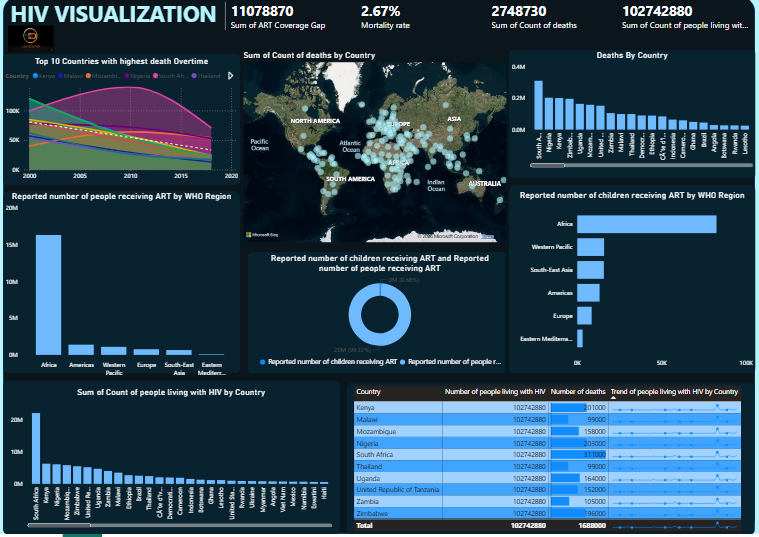

What the dashboard file says about the page in this screenshot:
{"tool":"powerbi","page":{"name":"Page 1","canvas":[1519,1058],"ordinal":0},"visuals":[{"type":"shape","box":[20,0,1479.2,1058],"z":0},{"type":"map","fields":{"Category":["d_no_of_people_living_with_hiv_by_country_clean.Country"],"Size":["Sum(d_no_of_deaths_by_country.Count of deaths)"]},"box":[487.1,105.8,527,383.3],"z":1000},{"type":"shape","box":[1014.1,371.3,485.1,371.3],"z":2000},{"type":"shape","box":[696.7,760.6,802.5,297.4],"z":3000},{"type":"shape","box":[501.1,503,507,239.5],"z":4000},{"type":"shape","box":[1014.1,105.8,485.1,251.5],"z":5000},{"type":"columnChart","title":"Deaths By Country","fields":{"Category":["d_no_of_deaths_by_country.Country"],"Y":["Sum(d_no_of_deaths_by_country.Count of deaths)"]},"box":[1014.1,105.8,485.1,235.6],"z":6000},{"type":"barChart","title":"Reported number of children receiving ART by WHO Region","fields":{"Category":["d_art_pediatric_coverage_by_country.WHO Region"],"Y":["Sum(d_art_pediatric_coverage_by_country.Reported number of children receiving ART)"]},"box":[1014.1,381.3,485.1,357.3],"z":7000},{"type":"donutChart","fields":{"Y":["Sum(d_art_pediatric_coverage_by_country.Reported number of children receiving ART)","Sum(d_art_coverage_by_country.Reported number of people receiving ART)"]},"box":[513,505,495.1,233.6],"z":8000},{"type":"tableEx","fields":{"Values":["d_no_of_deaths_by_country.Country","Sum(d_no_of_people_living_with_hiv_by_country_clean.Count of people living with HIV)","Sum(d_no_of_deaths_by_country.Count of deaths)","SparklineData(Sum(d_no_of_people_living_with_hiv_by_country_clean.Count of people living with HIV)_[d_no_of_people_livin"]},"box":[704.7,760.6,794.5,297.4],"z":9000},{"type":"shape","box":[20,113.8,467.1,257.5],"z":10000},{"type":"shape","box":[20,383.3,467.1,359.3],"z":11000},{"type":"shape","box":[20,756.6,662.7,301.4],"z":12000},{"type":"lineChart","title":"Top 10 Countries with highest death Overtime","fields":{"Category":["d_no_of_deaths_by_country.Year"],"Y":["Sum(d_no_of_deaths_by_country.Count of deaths)"],"Series":["d_no_of_deaths_by_country.Country"]},"box":[20,117.8,467.1,253.5],"z":13000},{"type":"columnChart","title":"Reported number of people receiving ART by WHO Region","fields":{"Category":["d_art_coverage_by_country.WHO Region"],"Y":["Sum(d_art_coverage_by_country.Reported number of people receiving ART)"]},"box":[20,383.3,467.1,373.3],"z":14000},{"type":"columnChart","fields":{"Category":["d_no_of_people_living_with_hiv_by_country_clean.Country"],"Y":["Sum(d_no_of_people_living_with_hiv_by_country_clean.Count of people living with HIV)"]},"box":[29.9,768.5,642.8,281.5],"z":15000},{"type":"multiRowCard","fields":{"Values":["Sum(d_art_coverage_by_country.ART Coverage Gap)","d_art_coverage_by_country.Mortality rate","Sum(d_no_of_deaths_by_country.Count of deaths)","Sum(d_no_of_people_living_with_hiv_by_country_clean.Count of people living with HIV)"]},"box":[451.1,6,1048,85.8],"z":16000},{"type":"textbox","box":[29.9,0,457.1,113.8],"z":16001},{"type":"image","box":[29.9,49.9,89.8,69.9],"z":16002}]}

Visuals, with their boxes in screenshot pixels (x1, y1, x2, y2), scaled from the page's 1519x1058 canvas onto the 759x537 screenshot:
shape: x1=10, y1=0, x2=749, y2=536
map - d_no_of_people_living_with_hiv_by_country_clean.Country x Sum(d_no_of_deaths_by_country.Count of deaths): x1=243, y1=54, x2=507, y2=248
shape: x1=507, y1=188, x2=749, y2=377
shape: x1=348, y1=386, x2=749, y2=536
shape: x1=250, y1=255, x2=504, y2=377
shape: x1=507, y1=54, x2=749, y2=181
"Deaths By Country" columnChart: x1=507, y1=54, x2=749, y2=173
"Reported number of children receiving ART by WHO Region" barChart: x1=507, y1=194, x2=749, y2=375
donutChart - Sum(d_art_pediatric_coverage_by_country.Reported number of children receiving ART) x Sum(d_art_coverage_by_country.Reported number of people receiving ART): x1=256, y1=256, x2=504, y2=375
tableEx - d_no_of_deaths_by_country.Country x Sum(d_no_of_people_living_with_hiv_by_country_clean.Count of people living with HIV): x1=352, y1=386, x2=749, y2=536
shape: x1=10, y1=58, x2=243, y2=188
shape: x1=10, y1=195, x2=243, y2=377
shape: x1=10, y1=384, x2=341, y2=536
"Top 10 Countries with highest death Overtime" lineChart: x1=10, y1=60, x2=243, y2=188
"Reported number of people receiving ART by WHO Region" columnChart: x1=10, y1=195, x2=243, y2=384
columnChart - d_no_of_people_living_with_hiv_by_country_clean.Country x Sum(d_no_of_people_living_with_hiv_by_country_clean.Count of people living with HIV): x1=15, y1=390, x2=336, y2=533
multiRowCard - Sum(d_art_coverage_by_country.ART Coverage Gap) x d_art_coverage_by_country.Mortality rate: x1=225, y1=3, x2=749, y2=47
textbox: x1=15, y1=0, x2=243, y2=58
image: x1=15, y1=25, x2=60, y2=61
